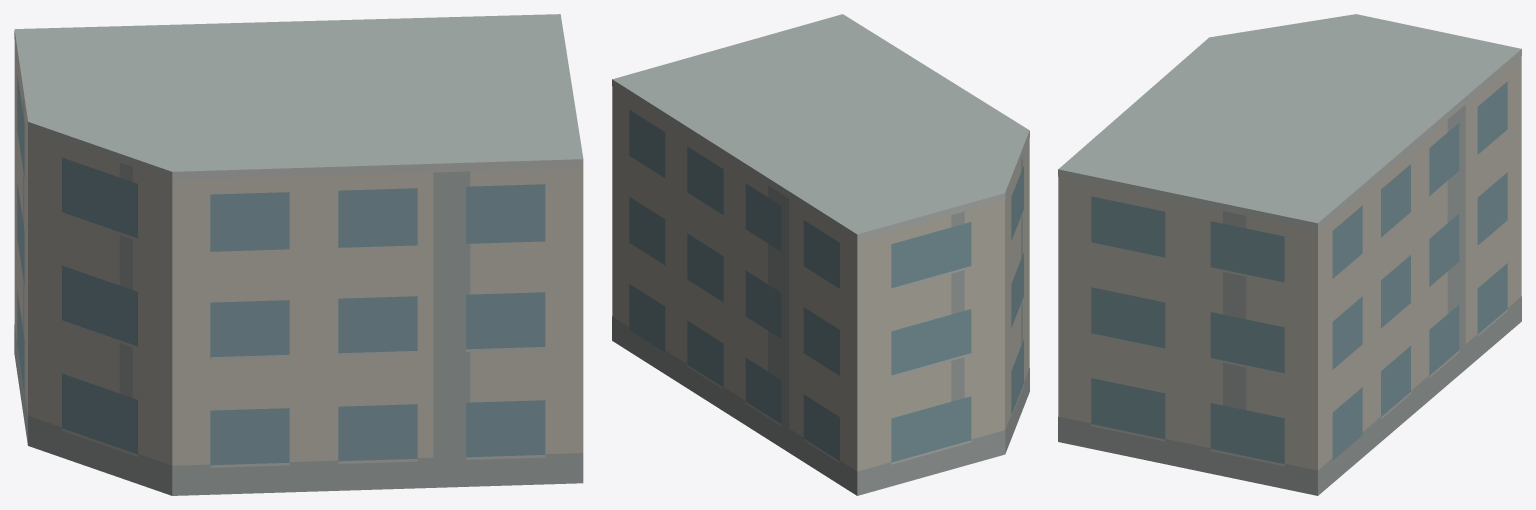
File: residential-f6f4a1cb-94c2-491c-8fa0-0e44f265c737.glb
The picture shows the model from 3 angles, left to right: view 1: azimuth 30°, elevation 25°; view 2: azimuth 150°, elevation 25°; view 3: azimuth 270°, elevation 25°; orthographic projection. The views are drawn at different scales.
Parts seen in each view (by area): view 1: residential-f6f4a1cb-94c2-491c-8fa0-0e44f265c737.tmp; view 2: residential-f6f4a1cb-94c2-491c-8fa0-0e44f265c737.tmp; view 3: residential-f6f4a1cb-94c2-491c-8fa0-0e44f265c737.tmp.
Boxes of the visible parts, x1,y1,x2,y2 form: residential-f6f4a1cb-94c2-491c-8fa0-0e44f265c737.tmp: [14, 14, 583, 495]; residential-f6f4a1cb-94c2-491c-8fa0-0e44f265c737.tmp: [612, 14, 1029, 495]; residential-f6f4a1cb-94c2-491c-8fa0-0e44f265c737.tmp: [1058, 14, 1521, 495].
Bounding box in the file's own units: 14.83 × 9 × 13.88.
